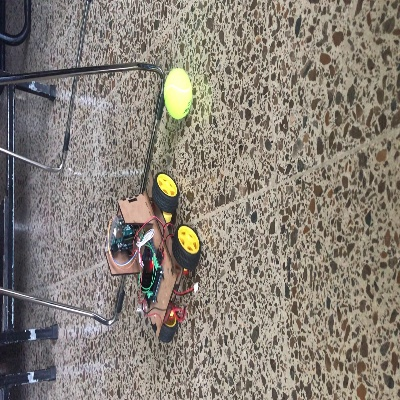Ball: (163, 68, 192, 119)
Robot: (106, 173, 200, 343)
